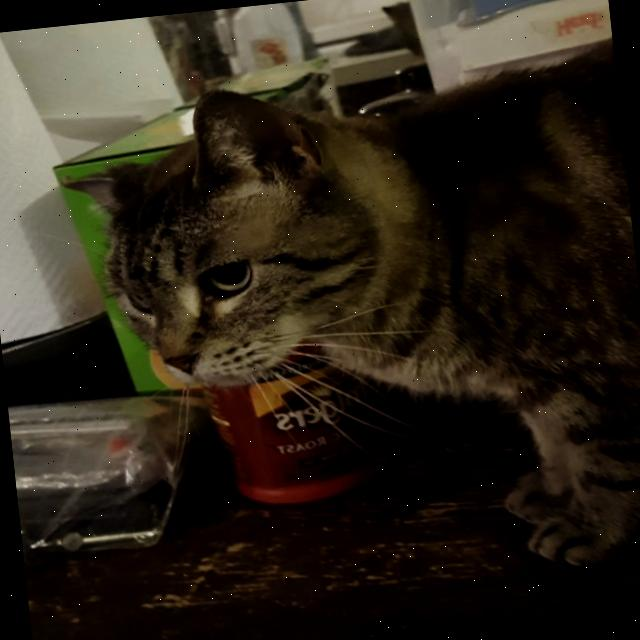american_shorthair_cat: (50, 62, 442, 438)
